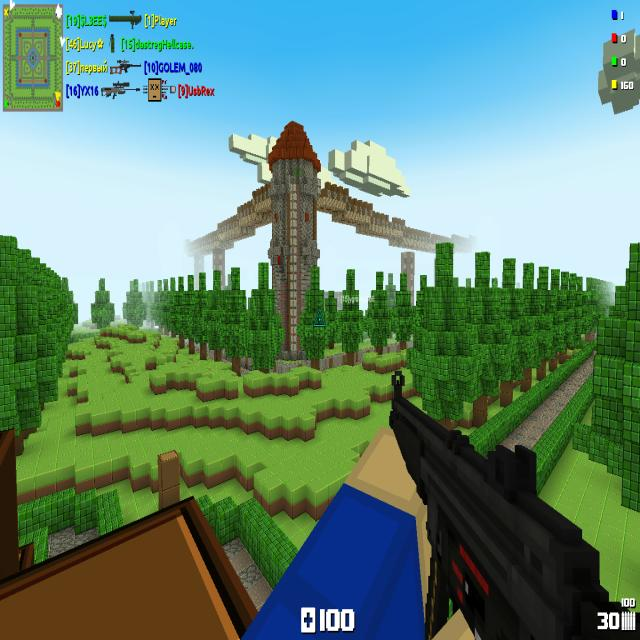enemy: (278, 249, 282, 265)
